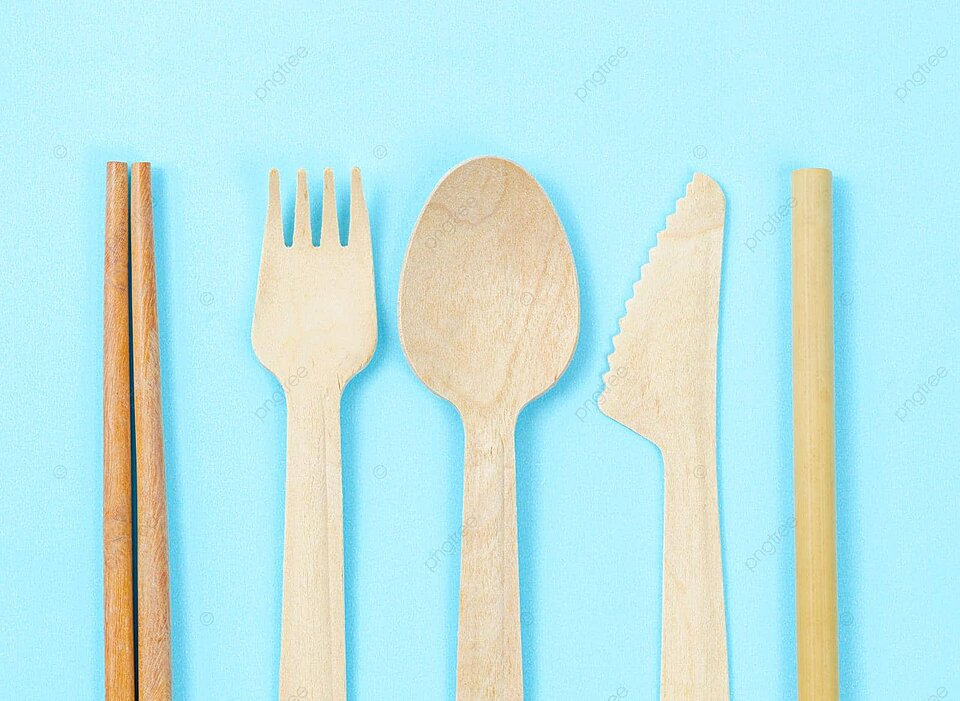Wooden Utensils: (397, 156, 589, 664), (598, 157, 755, 695), (250, 174, 379, 688), (89, 170, 211, 689), (779, 154, 883, 684)
